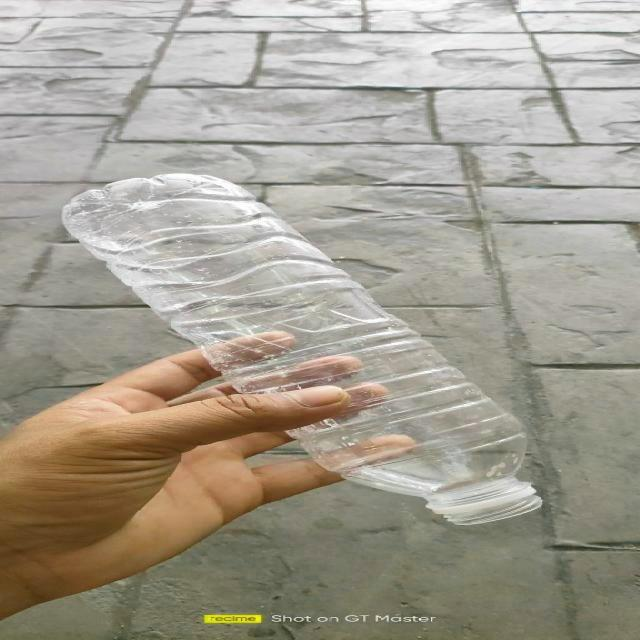bottle: (63, 174, 543, 526)
